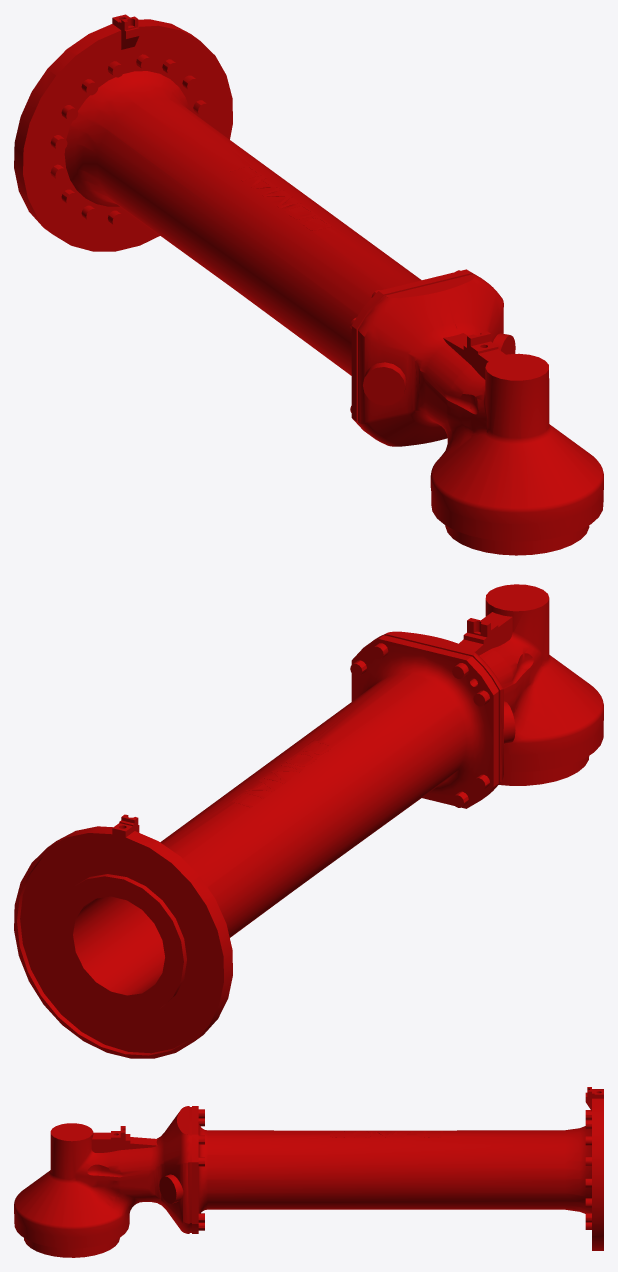
The picture shows the model from 3 angles, top to bottom: view 1: azimuth 30°, elevation 25°; view 2: azimuth 150°, elevation 25°; view 3: azimuth 270°, elevation 25°; orthographic projection. The views are drawn at different scales.
Parts seen in each view (by area): view 1: link_4; view 2: link_4; view 3: link_4.
Boxes of the visible parts, x1,y1,x2,y2 form: link_4: (14, 14, 603, 555); link_4: (14, 584, 603, 1058); link_4: (14, 1087, 603, 1257).
Bounding box in the file's own units: 0.3108 × 0.326 × 1.13.
